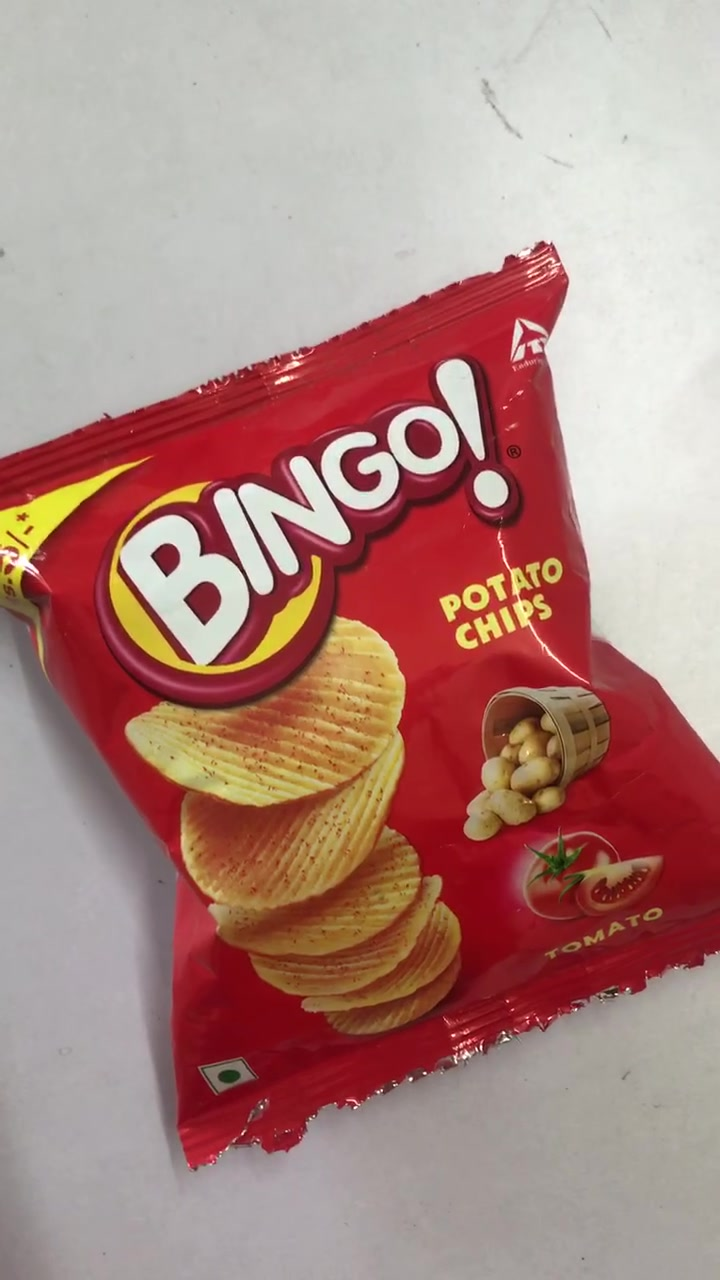Bingo: (6, 252, 720, 1167)
